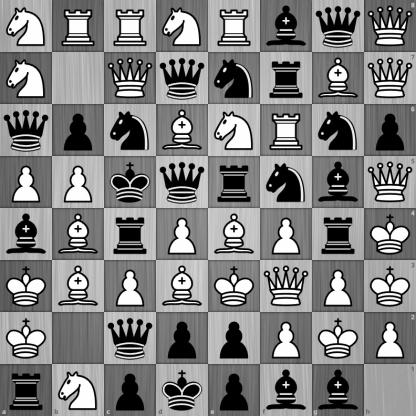B: (53, 209, 104, 260), (53, 261, 104, 312), (157, 105, 208, 156), (157, 261, 208, 312), (209, 209, 260, 260), (313, 53, 364, 104)
K: (364, 260, 416, 312), (364, 209, 416, 260), (1, 261, 52, 312), (1, 313, 52, 364), (209, 261, 260, 312), (313, 313, 364, 364)
N: (52, 364, 104, 416), (1, 1, 52, 52), (1, 53, 52, 104), (157, 1, 208, 52), (209, 105, 260, 156)
P: (364, 312, 416, 364), (1, 157, 52, 208), (53, 157, 104, 208), (105, 261, 156, 312), (157, 209, 208, 260), (261, 209, 312, 260), (261, 313, 312, 364), (313, 261, 364, 312)
Q: (364, 156, 416, 209), (364, 0, 416, 52), (364, 52, 416, 104), (105, 53, 156, 104), (261, 261, 312, 312)
R: (53, 1, 104, 52), (105, 1, 156, 52), (209, 1, 260, 52), (261, 105, 312, 156)
b: (260, 364, 312, 416), (312, 364, 364, 416), (1, 209, 52, 260), (261, 1, 312, 52), (313, 157, 364, 208)
board: (0, 0, 415, 415)
k: (156, 364, 209, 416), (105, 157, 156, 208)
n: (105, 105, 156, 156), (209, 53, 260, 104), (261, 157, 312, 208), (313, 105, 364, 156)
p: (104, 364, 156, 416), (364, 104, 416, 156), (209, 364, 260, 416), (53, 105, 104, 156), (157, 313, 208, 364), (209, 313, 260, 364)
q: (1, 105, 52, 156), (105, 313, 156, 364), (157, 53, 208, 104), (157, 157, 208, 208), (313, 1, 364, 52)
r: (0, 364, 52, 416), (105, 209, 156, 260), (209, 157, 260, 208), (261, 53, 312, 104), (313, 209, 364, 260)
